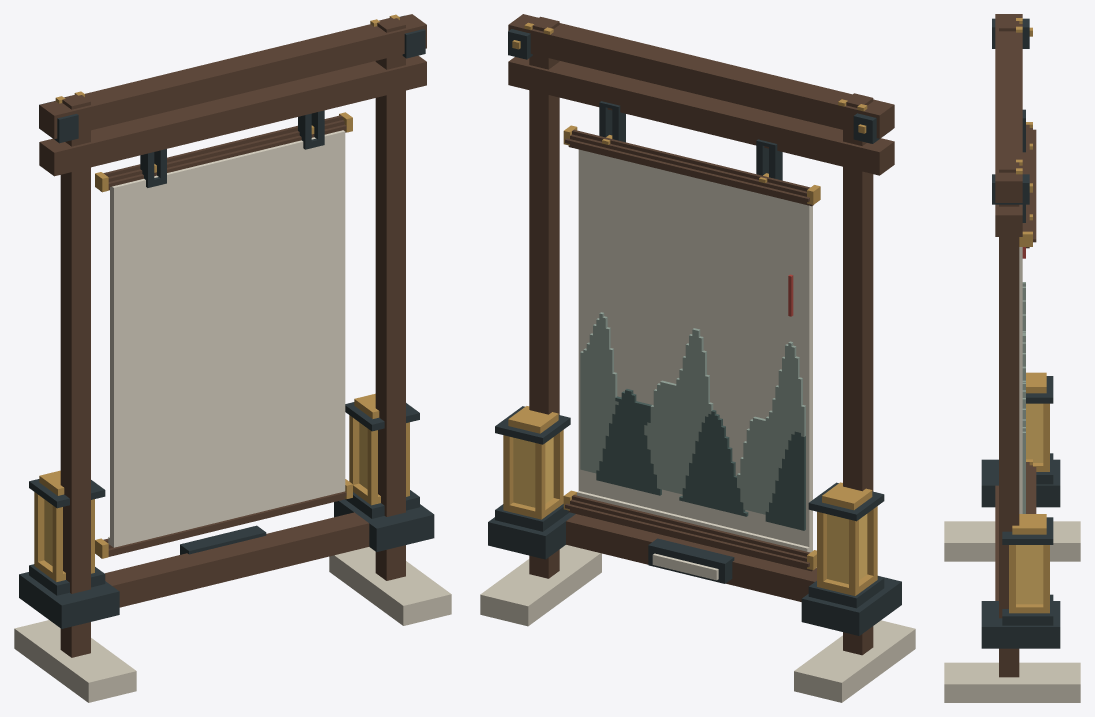
The model's file is LIFE-169.glb.
The picture shows the model from 3 angles, left to right: view 1: azimuth 30°, elevation 25°; view 2: azimuth 150°, elevation 25°; view 3: azimuth 270°, elevation 25°; orthographic projection. The views are drawn at different scales.
Visible parts, largest first — view 1: 画框及展架; view 2: 画框及展架; view 3: 画框及展架.
Part boxes in pixels (x1,y1,x2,y2): 画框及展架: [14, 14, 451, 702]; 画框及展架: [480, 14, 915, 702]; 画框及展架: [944, 14, 1080, 702].
Bounding box in the file's own units: 1.16 × 1.7 × 0.4.
Materials: 9 (9 with a texture image).
